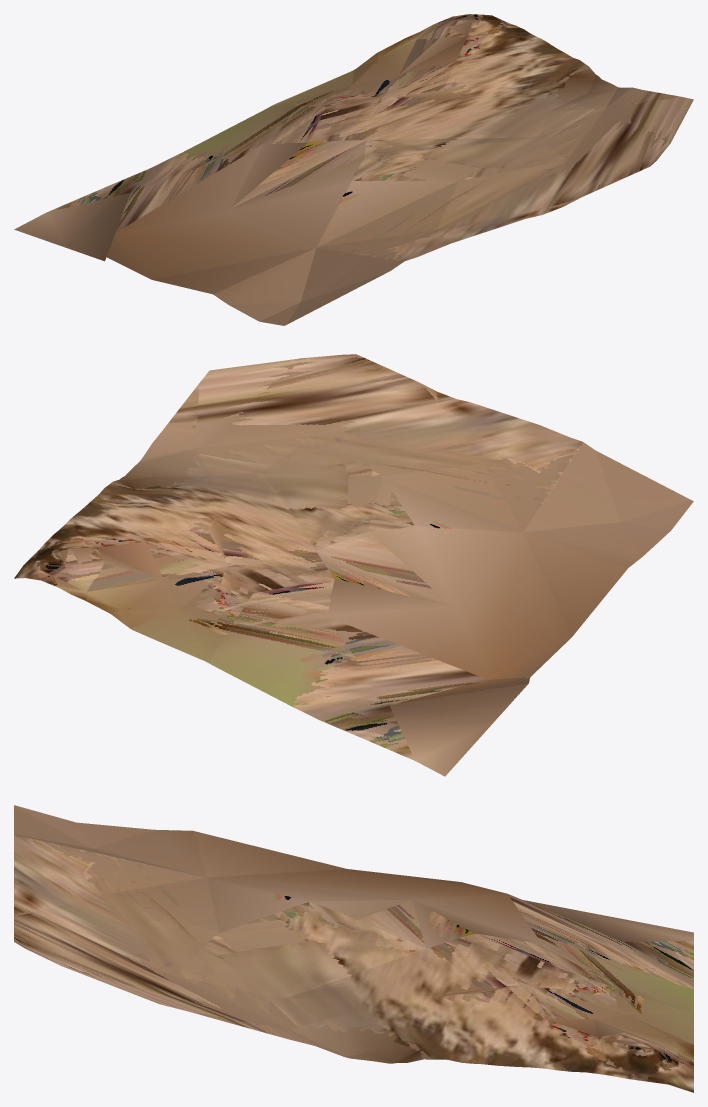
3 views of the same model, one above another, from view 1: azimuth 30°, elevation 25°; view 2: azimuth 150°, elevation 25°; view 3: azimuth 270°, elevation 25° (orthographic). The views are drawn at different scales.
Size of the model in its own units: 1.04 by 0.3656 by 1.04.
Materials: 2 (2 with a texture image).
